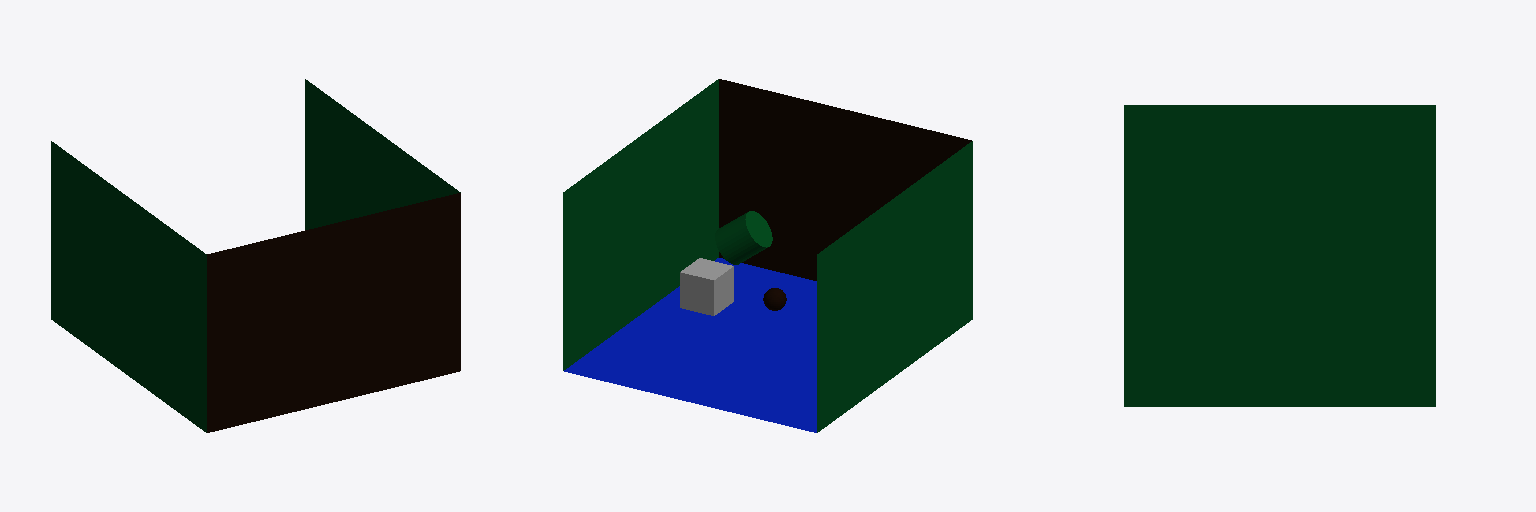
Rendered from material_scene_smooth.obj.
3 renders of one model, left to right at view 1: azimuth 30°, elevation 25°; view 2: azimuth 150°, elevation 25°; view 3: azimuth 270°, elevation 25°, orthographic.
Visible parts, largest first — view 1: Cube; view 2: Cube, Cube.001, Cylinder; view 3: Cube.
Boxes of the visible parts, <box> form: Cube: <box>51,79,460,432</box>; Cube: <box>563,79,972,432</box>; Cube.001: <box>680,258,733,315</box>; Cylinder: <box>715,211,772,264</box>; Cube: <box>1124,105,1435,406</box>.
Bounding box in the file's own units: 4.81 × 3.24 × 5.11.